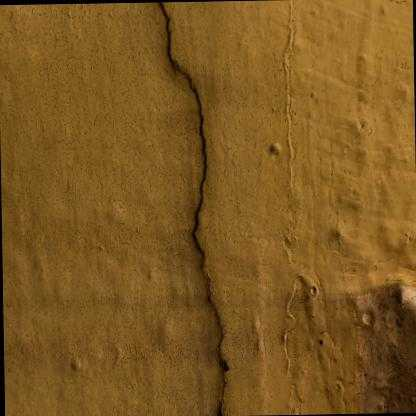crack: (156, 1, 226, 416)
